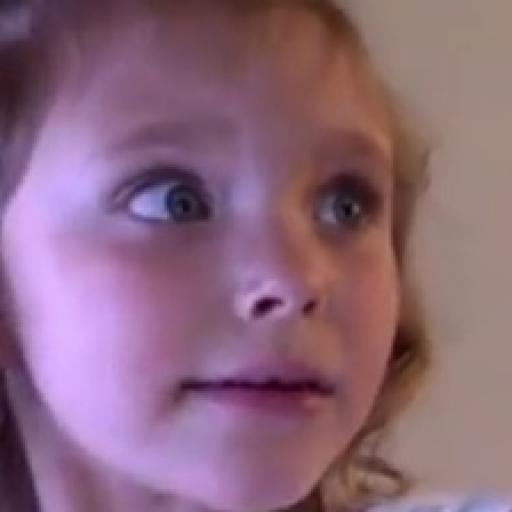Autism: (0, 0, 460, 512)
